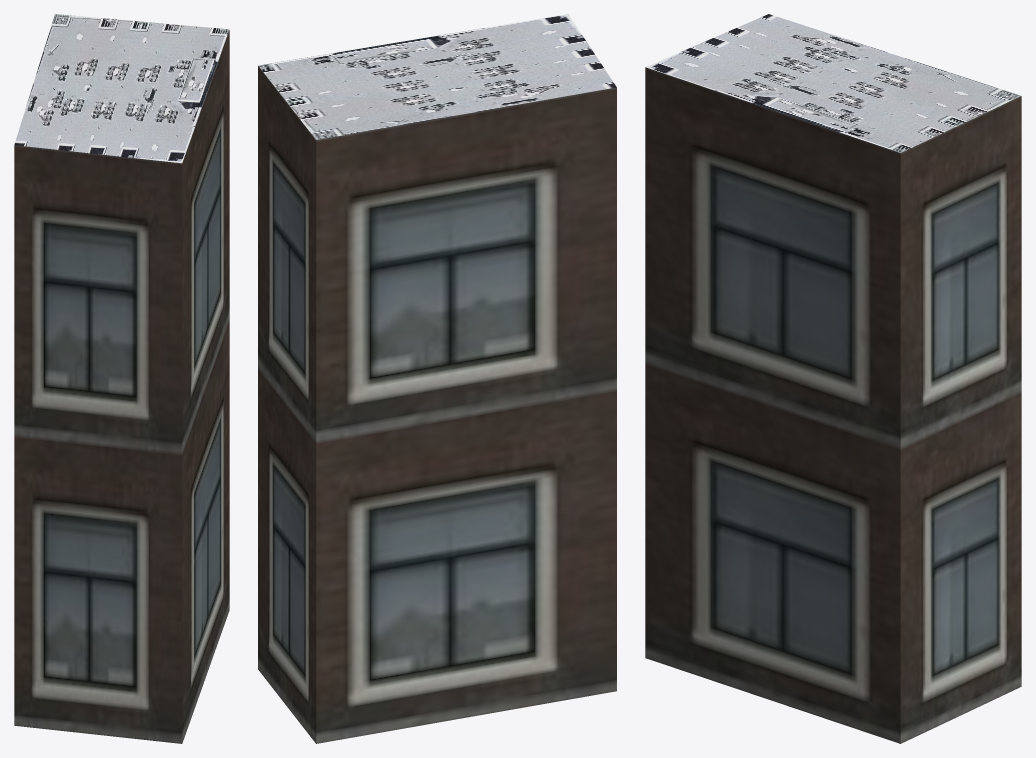
File: ResTex__219.fbx
3 renders of one model, left to right at view 1: azimuth 30°, elevation 25°; view 2: azimuth 150°, elevation 25°; view 3: azimuth 270°, elevation 25°, orthographic. The views are drawn at different scales.
Visible parts, largest first — view 1: CityEngineMaterial_16_m, CityEngineMaterial_15_m; view 2: CityEngineMaterial_16_m, CityEngineMaterial_15_m; view 3: CityEngineMaterial_16_m, CityEngineMaterial_15_m.
Part boxes in pixels (x1=…): CityEngineMaterial_16_m: x1=14, y1=30, x2=229, y2=743; CityEngineMaterial_15_m: x1=14, y1=14, x2=229, y2=163; CityEngineMaterial_16_m: x1=258, y1=66, x2=616, y2=743; CityEngineMaterial_15_m: x1=258, y1=14, x2=616, y2=139; CityEngineMaterial_16_m: x1=645, y1=67, x2=1021, y2=743; CityEngineMaterial_15_m: x1=646, y1=14, x2=1020, y2=152.
Bounding box in the file's own units: 3.03 × 6 × 3.46.
Materials: 2 (2 with a texture image).
